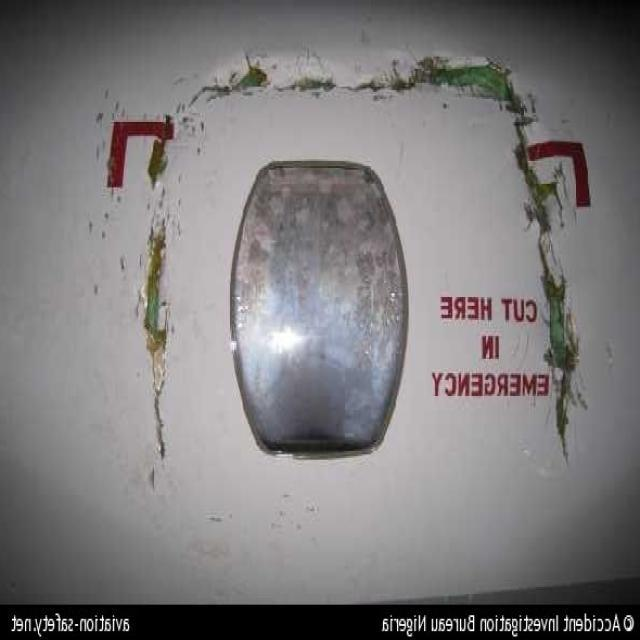crack: (514, 118, 591, 473), (167, 70, 528, 111), (141, 151, 181, 466)
